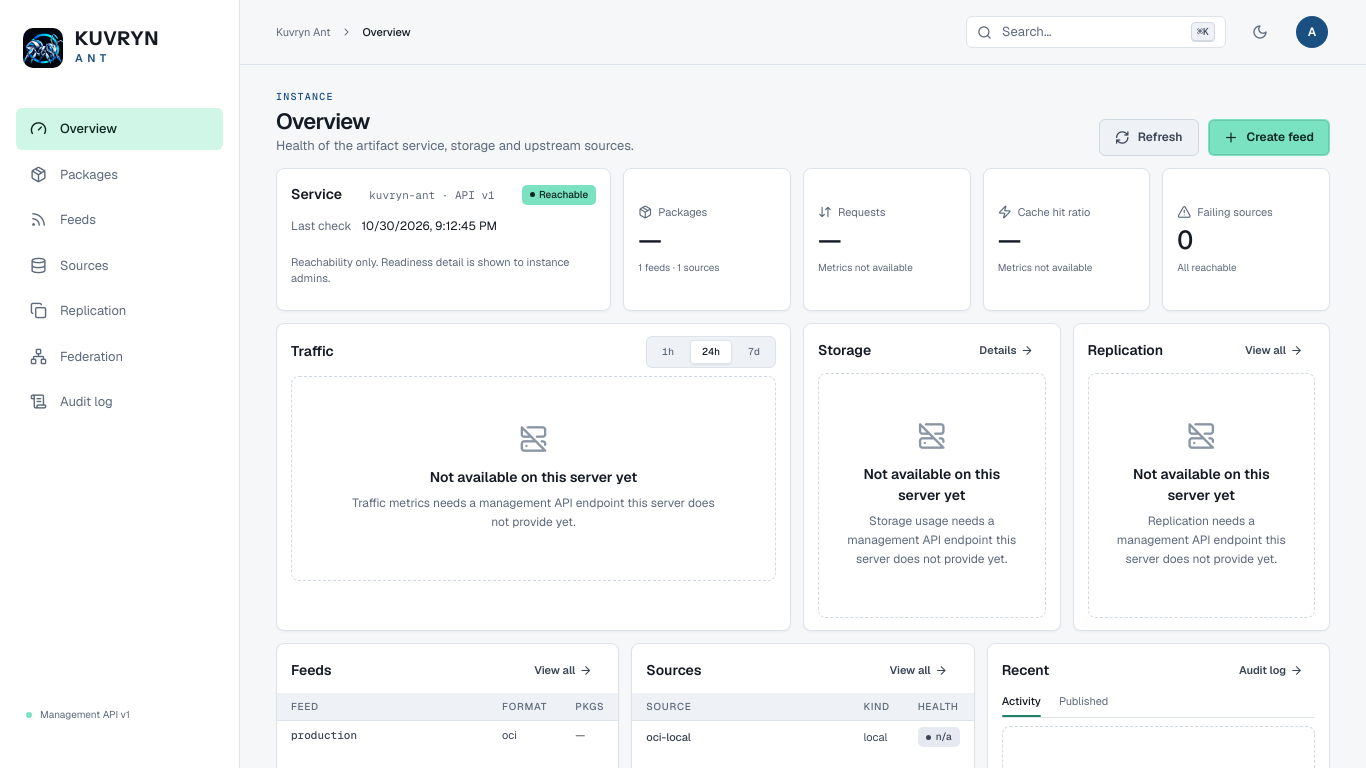
Scenario: hides admin-only areas when the server says the principal is not an admin, and shows replication jobs
Click the button "Replication".
click(120, 311)  # box [16,290,223,332]
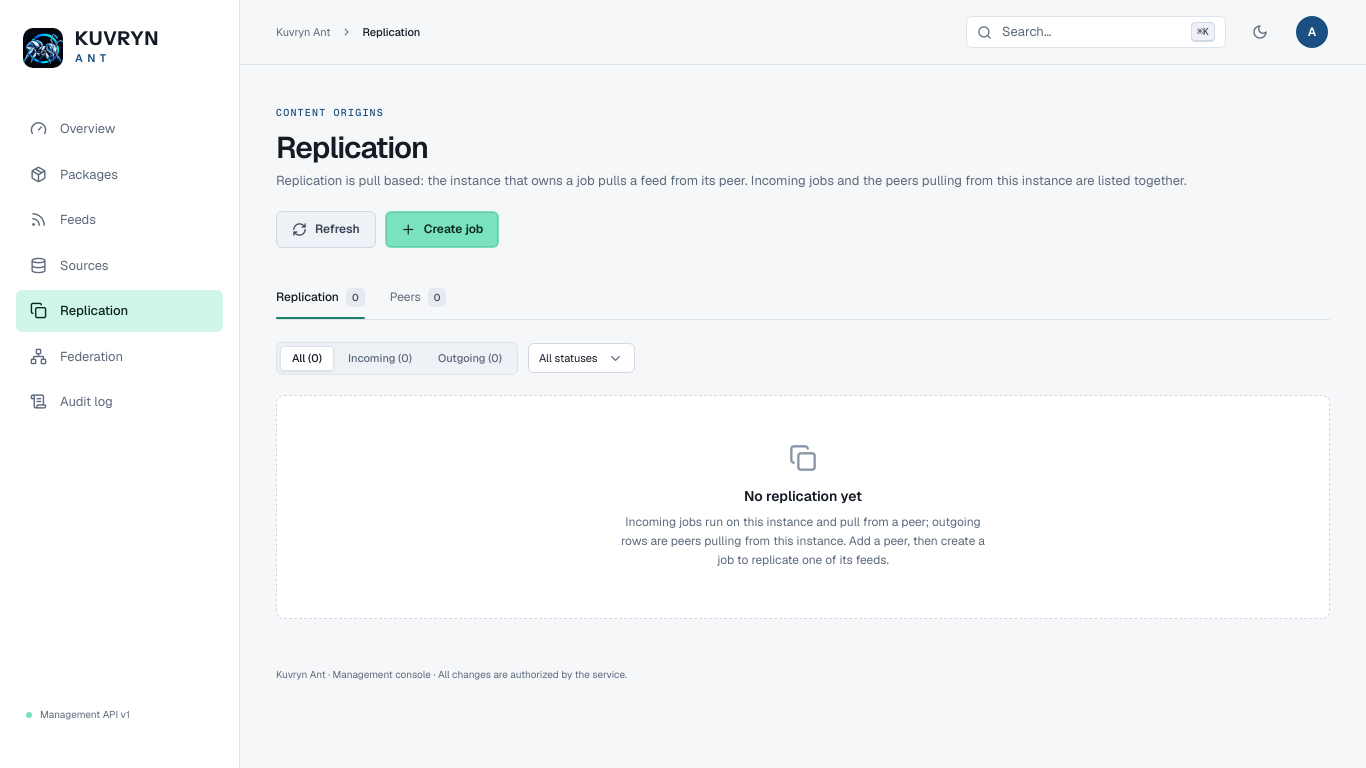
Check: the heading "No replication yet" is shown, box [744,486,862,507]
